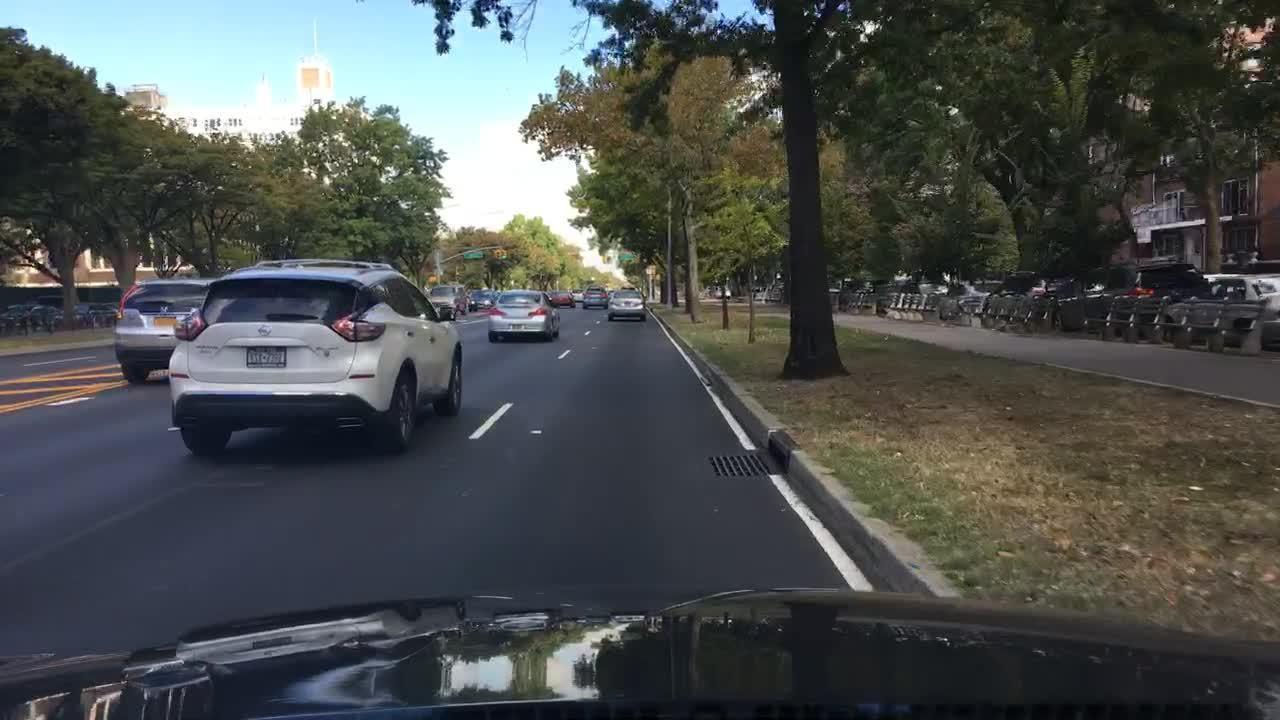Honda: (156, 303, 171, 315)
lexus: (250, 316, 277, 340)
